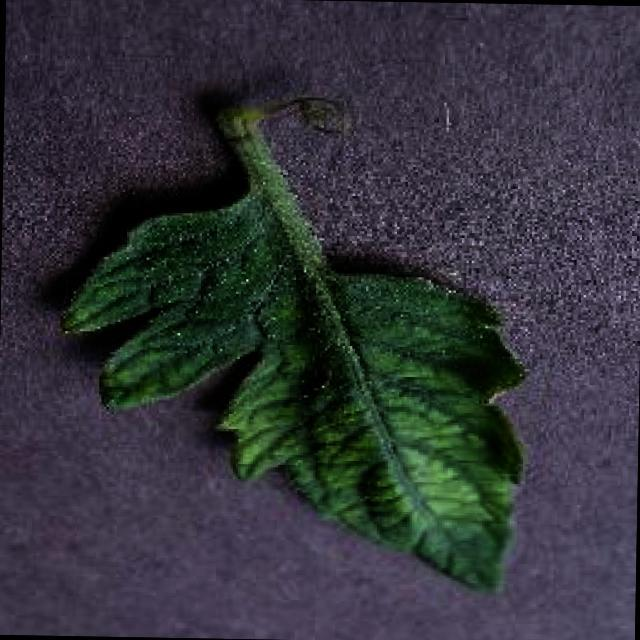Tomato mosaic virus leaf: (58, 197, 530, 604)
